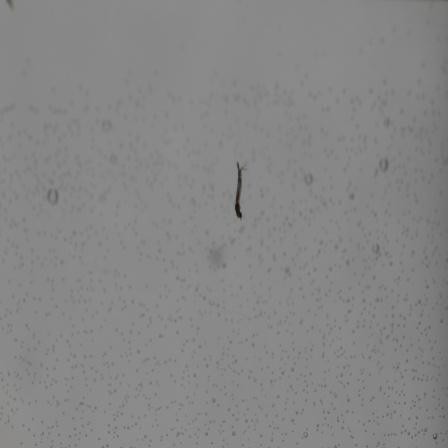Jentik-Nyamuk: (228, 157, 250, 224)
